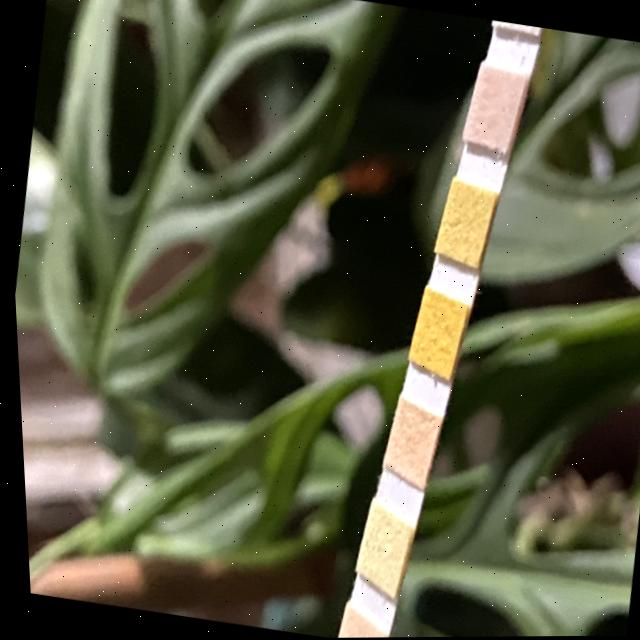Nitrite: (438, 188, 489, 257), (470, 72, 518, 144), (411, 299, 460, 368), (384, 410, 431, 475), (352, 519, 400, 580), (332, 628, 372, 638)
